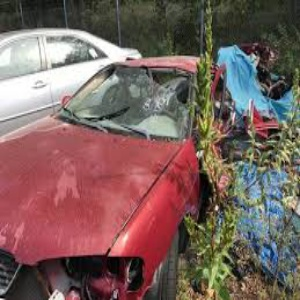front_windshield_glass: (92, 71, 188, 137)
